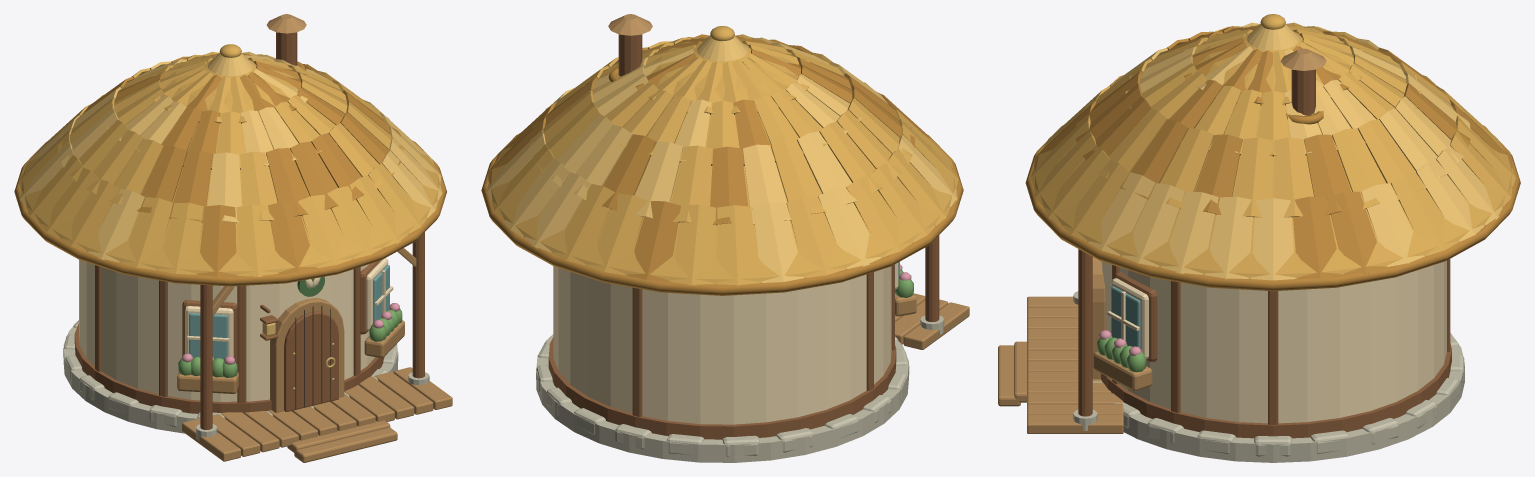
Rendered from cottage.fbx.
3 views of the same model, side by side, from view 1: azimuth 30°, elevation 25°; view 2: azimuth 150°, elevation 25°; view 3: azimuth 270°, elevation 25° (orthographic). The views are drawn at different scales.
Parts seen in each view (by area): view 1: cottage; view 2: cottage; view 3: cottage.
Boxes of the visible parts, left/top/right/bottom form: cottage: left=14, top=14, right=452, bottom=462; cottage: left=481, top=14, right=969, bottom=462; cottage: left=998, top=14, right=1520, bottom=462.
Size of the model in its own units: 731 by 601 by 772.
